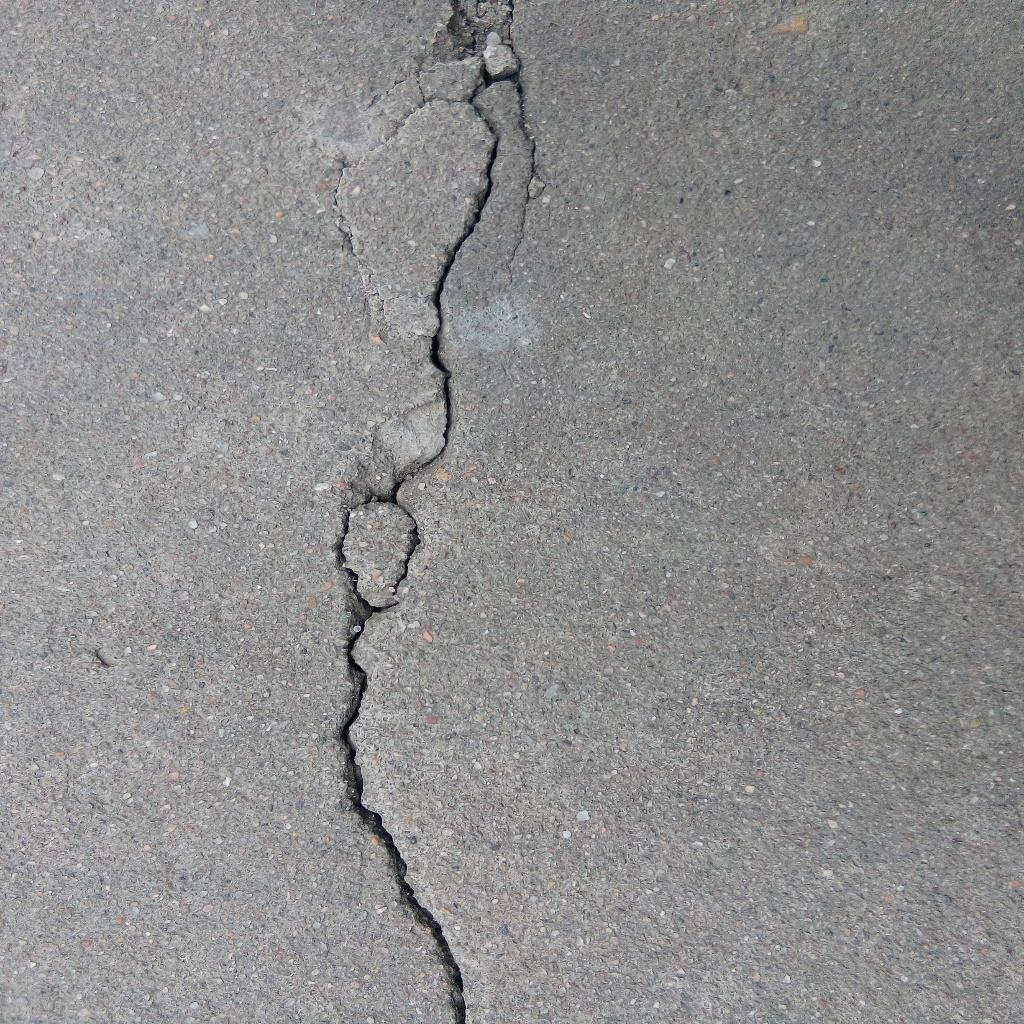Crack: (331, 1, 537, 1024)
